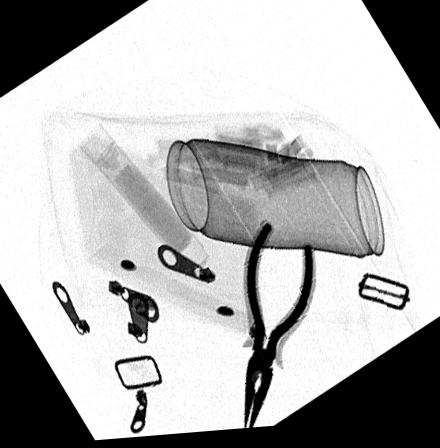Pliers: (244, 225, 312, 432)
